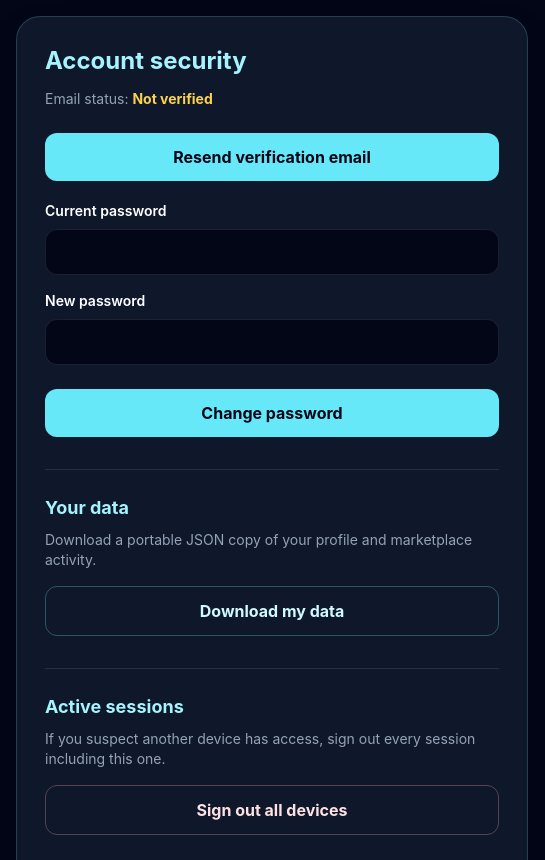
Test case: account access pages › downloads a portable account data export
Click the button "Download my data" at (272, 611), box [45,586,499,636]
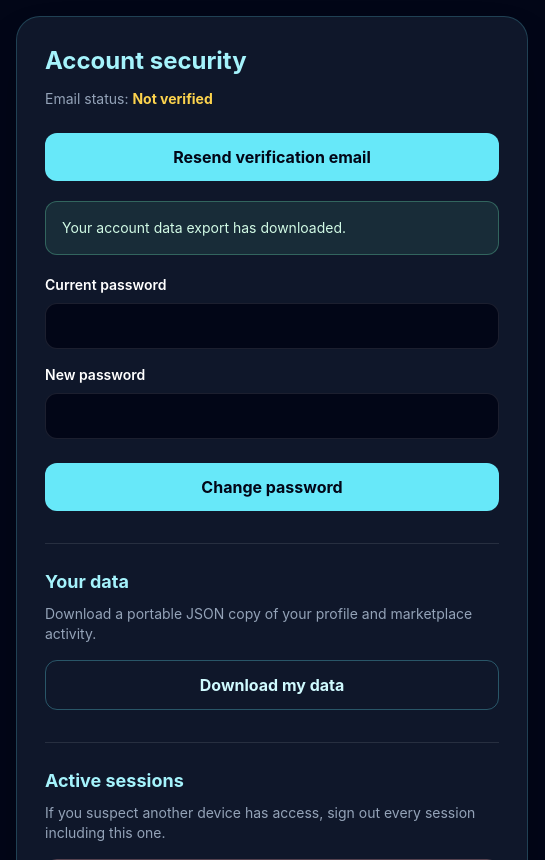
Now the text "Your account data export has downloaded." is shown, box [45,201,499,255]
